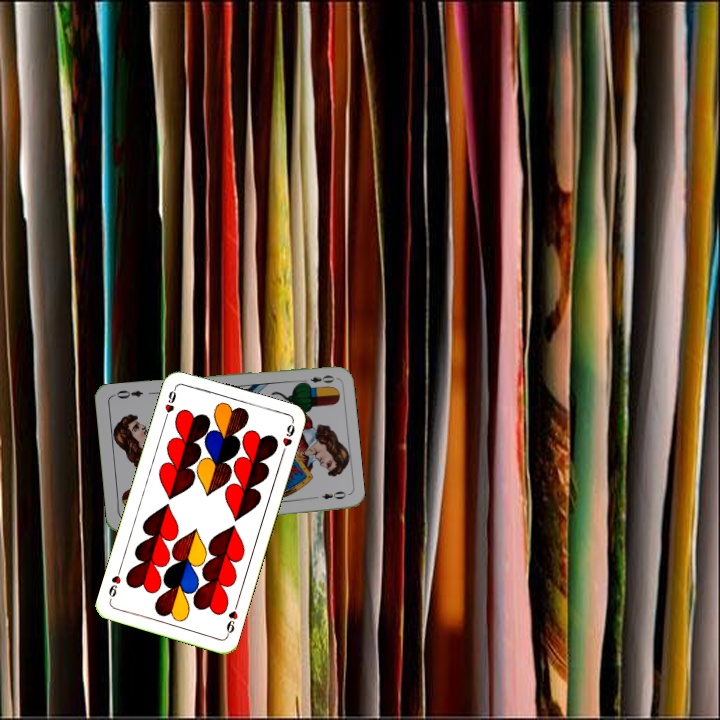EO: (297, 371, 336, 388)
H9: (160, 383, 179, 423), (222, 599, 240, 639)
